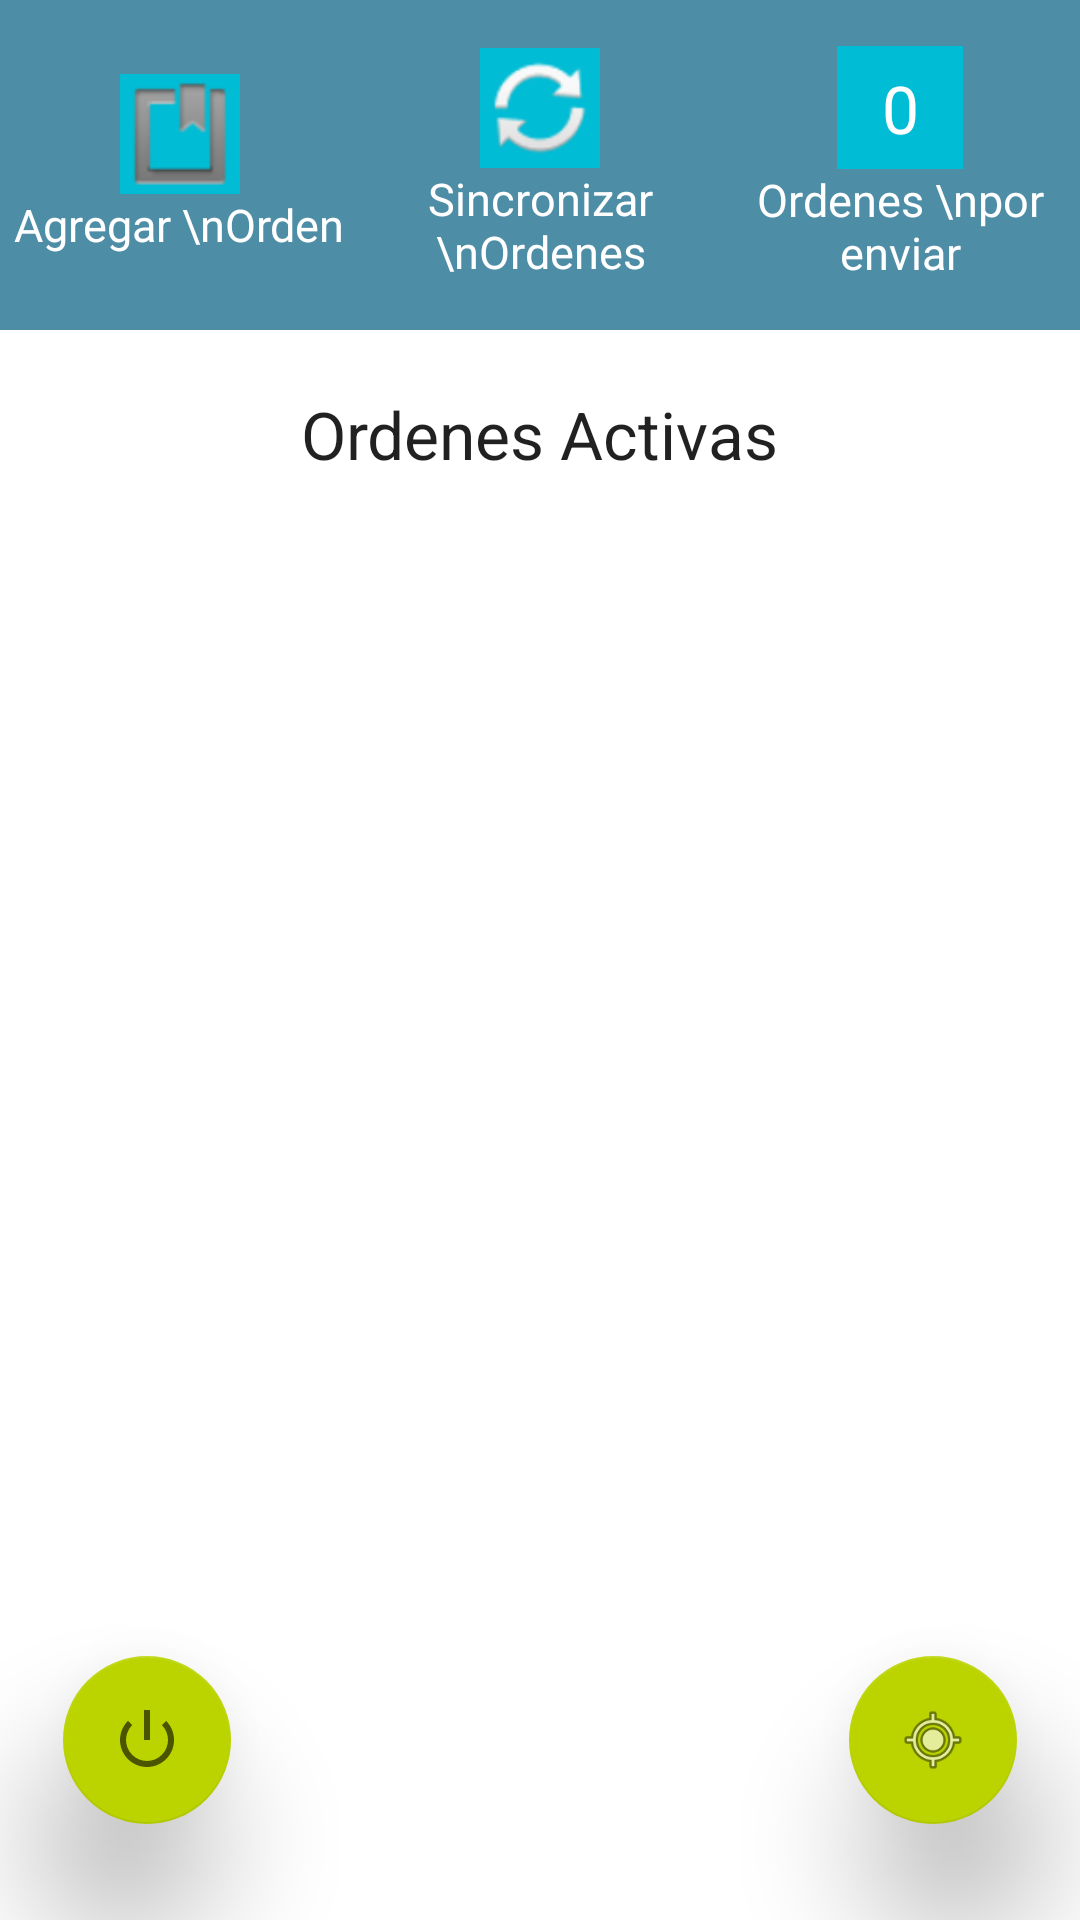

Icons on this 1080 × 1920 Android screen, each with its box as (x1, y1, x2, y2):
lock power off: (63, 1656, 231, 1824)
mylocation: (849, 1656, 1017, 1824)
